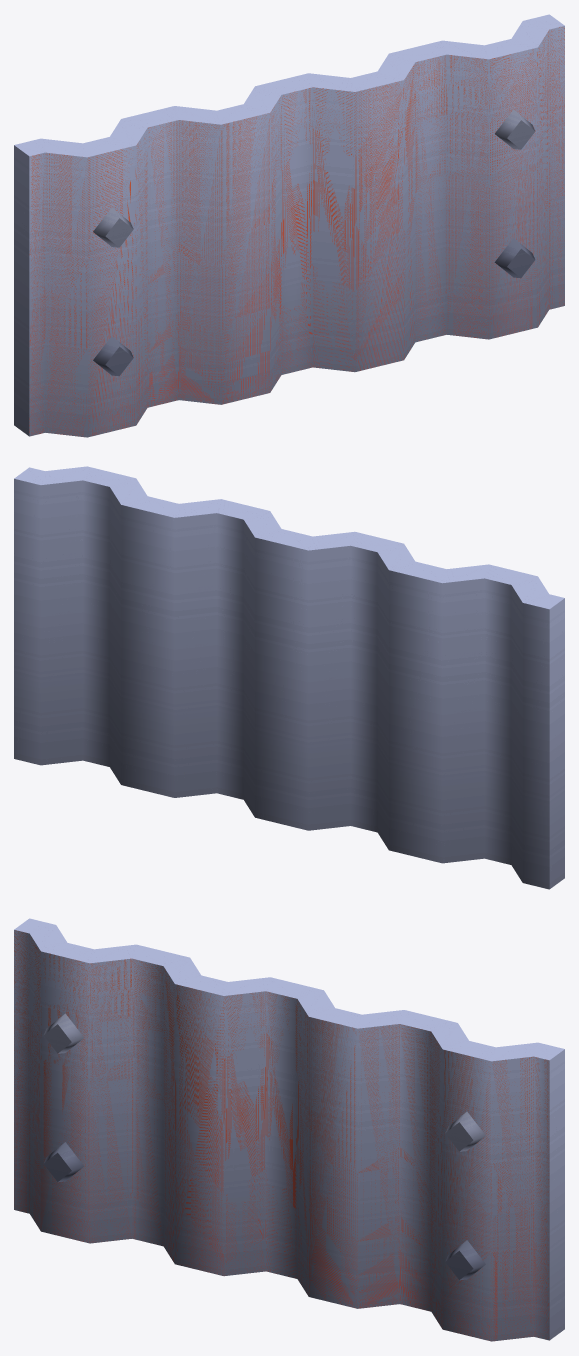
The model's file is metal-panel-screws-half_lev3.glb.
3 renders of one model, top to bottom at view 1: azimuth 30°, elevation 25°; view 2: azimuth 150°, elevation 25°; view 3: azimuth 330°, elevation 25°, orthographic.
Parts seen in each view (by area): view 1: metal-panel-screws-half_lev3; view 2: metal-panel-screws-half_lev3; view 3: metal-panel-screws-half_lev3.
Boxes of the visible parts, <box> form: metal-panel-screws-half_lev3: <box>14,14,564,437</box>; metal-panel-screws-half_lev3: <box>14,466,564,889</box>; metal-panel-screws-half_lev3: <box>14,918,564,1341</box>.
Bounding box in the file's own units: 4.29 × 2.14 × 0.536.
Materials: 1 (1 with a texture image).
